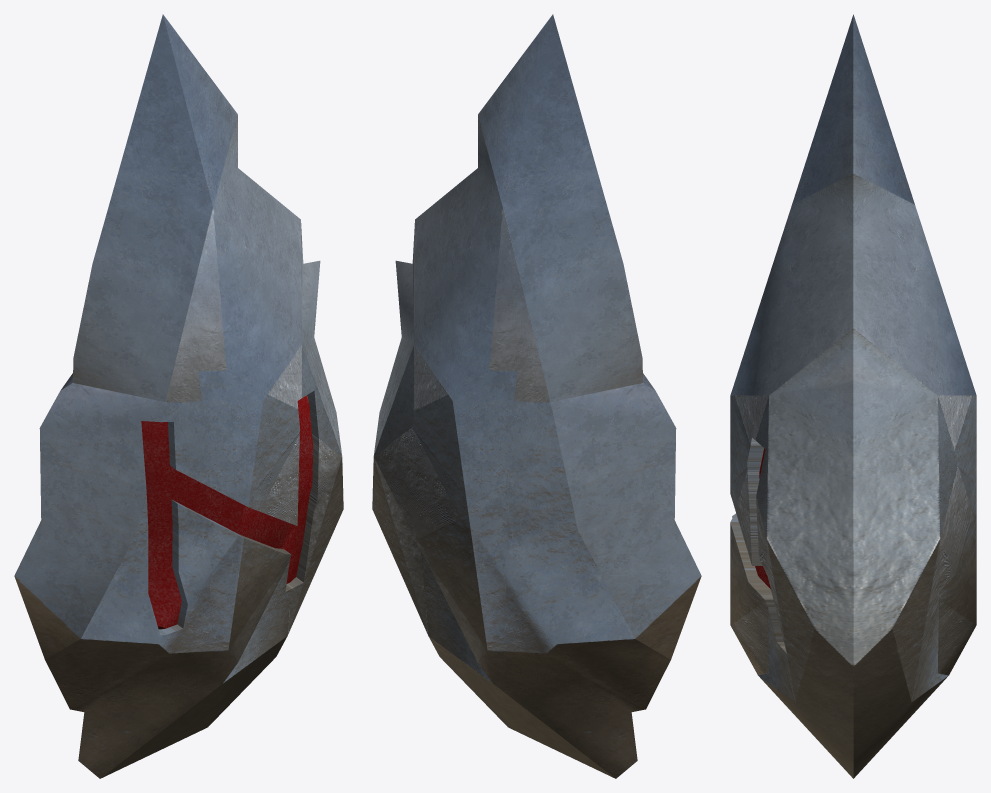
File: Whirlwind_Anubis.fbx
3 renders of one model, left to right at view 1: azimuth 30°, elevation 25°; view 2: azimuth 150°, elevation 25°; view 3: azimuth 270°, elevation 25°, orthographic. The views are drawn at different scales.
Parts seen in each view (by area): view 1: E_Horus' Healing; view 2: E_Horus' Healing; view 3: E_Horus' Healing.
Boxes of the visible parts, x1,y1,x2,y2 form: E_Horus' Healing: [14, 14, 343, 778]; E_Horus' Healing: [372, 14, 701, 778]; E_Horus' Healing: [730, 14, 976, 778].
Size of the model in its own units: 33.15 by 73.71 by 21.42.
Materials: 1 (1 with a texture image).
